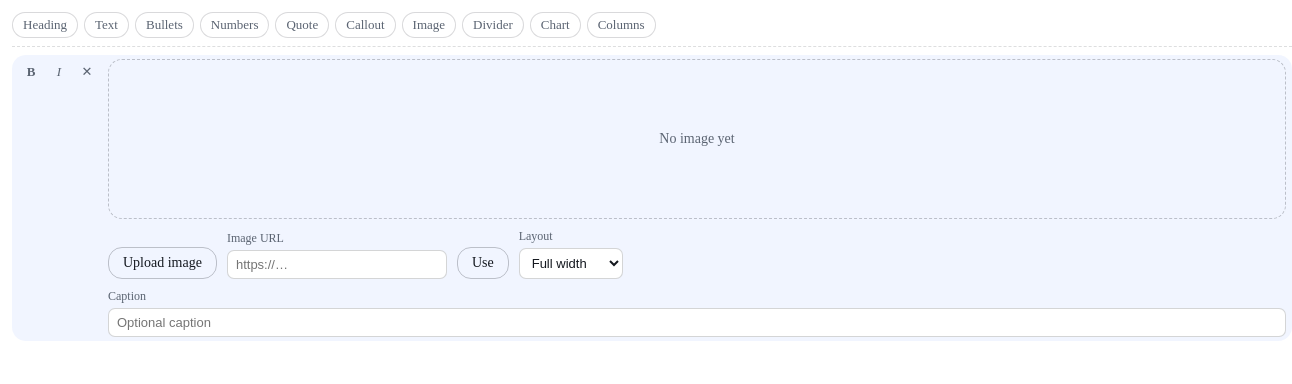
BlockEditor image block › rejects a javascript: URL without touching the block
This screenshot has width=1292, height=384.
Type "javascript:alert(1)" into the field labelled "Image URL".
click(337, 264); type("javascript:alert(1)")  # box [227,250,447,279]
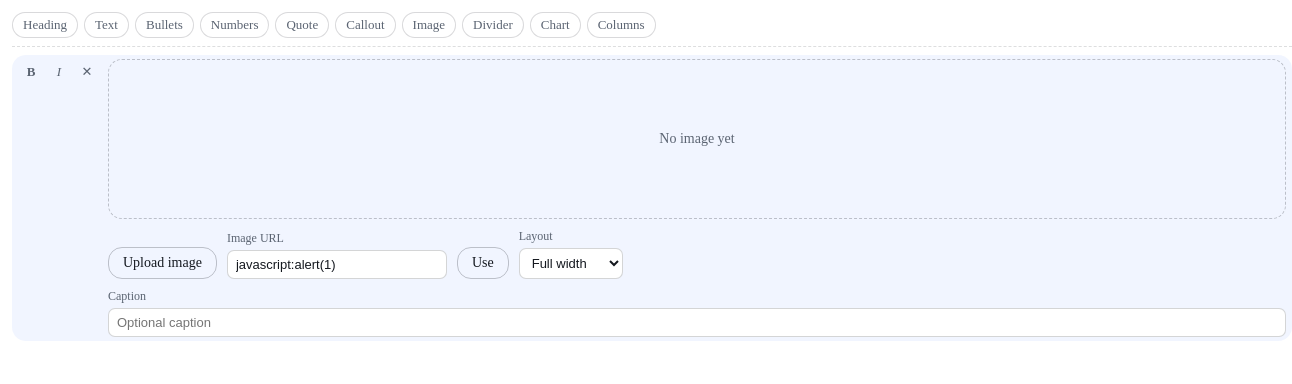
Click the button "Use".
click(483, 263)  # box [457,247,509,279]
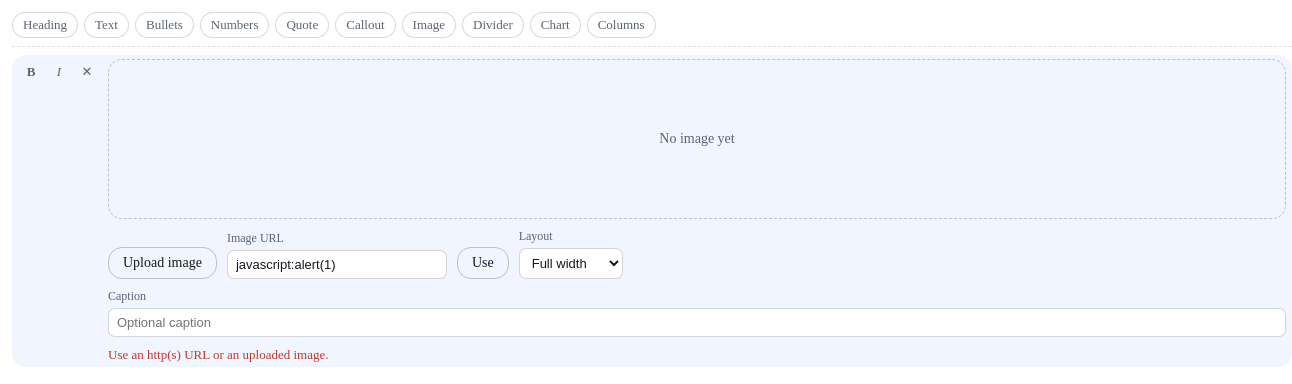
Expected: the message shows "http", [108,347,328,362]
